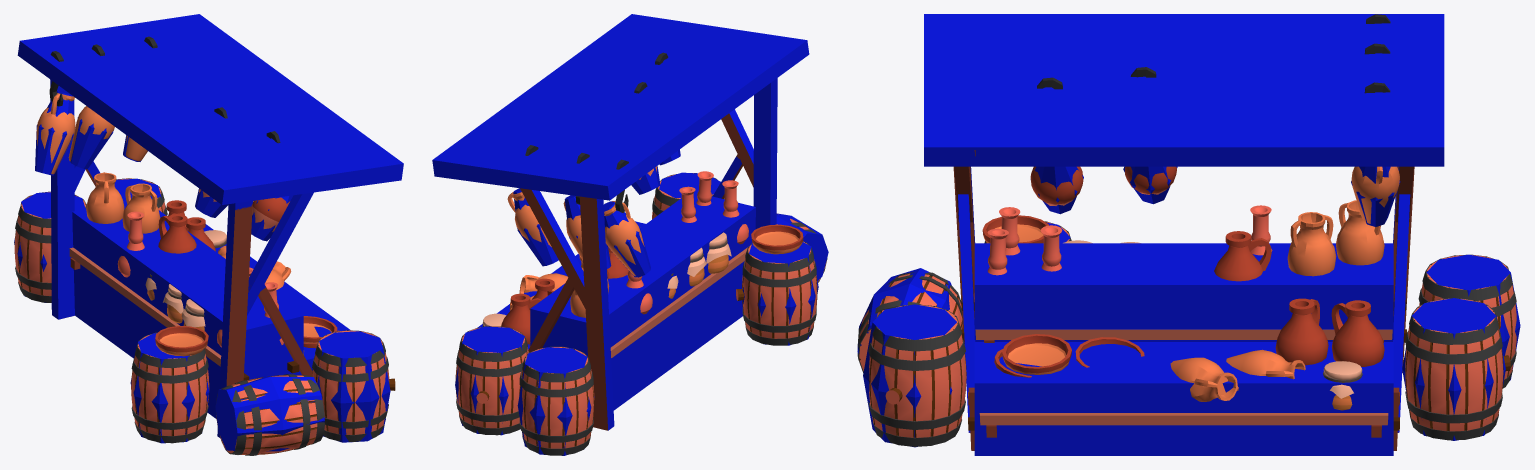
Rendered from MarketStall3.fbx.
3 renders of one model, left to right at view 1: azimuth 30°, elevation 25°; view 2: azimuth 150°, elevation 25°; view 3: azimuth 270°, elevation 25°, orthographic. The views are drawn at different scales.
Parts seen in each view (by area): view 1: Cube.062, Cylinder.054; view 2: Cube.062, Cylinder.054; view 3: Cube.062, Cylinder.054.
Part boxes in pixels (left/top/right/bottom): Cube.062: left=14, top=14, right=403, bottom=451; Cylinder.054: left=14, top=36, right=395, bottom=455; Cube.062: left=432, top=14, right=828, bottom=455; Cylinder.054: left=455, top=52, right=827, bottom=455; Cube.062: left=857, top=14, right=1520, bottom=455; Cylinder.054: left=857, top=14, right=1516, bottom=450.
Bounding box in the file's own units: 129 × 146 × 255.
Materials: 2 (1 with a texture image).
